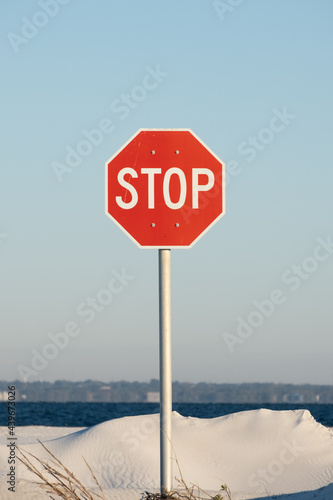StopSign: (104, 127, 225, 249)
